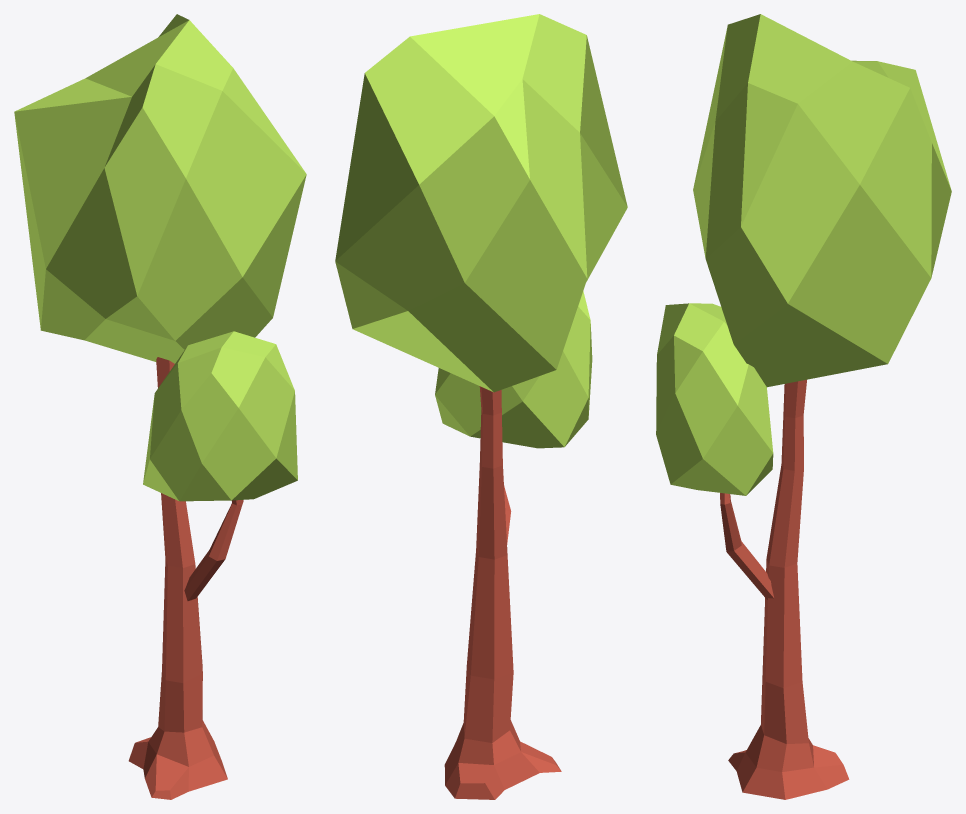
File: tree_2.fbx
3 renders of one model, left to right at view 1: azimuth 30°, elevation 25°; view 2: azimuth 150°, elevation 25°; view 3: azimuth 270°, elevation 25°, orthographic. The views are drawn at different scales.
Visible parts, largest first — view 1: tree_2; view 2: tree_2; view 3: tree_2.
Boxes of the visible parts, x1,y1,x2,y2 form: tree_2: [14, 14, 306, 799]; tree_2: [335, 14, 627, 799]; tree_2: [656, 14, 951, 799].
Bounding box in the file's own units: 1.44 × 4.54 × 1.63.
